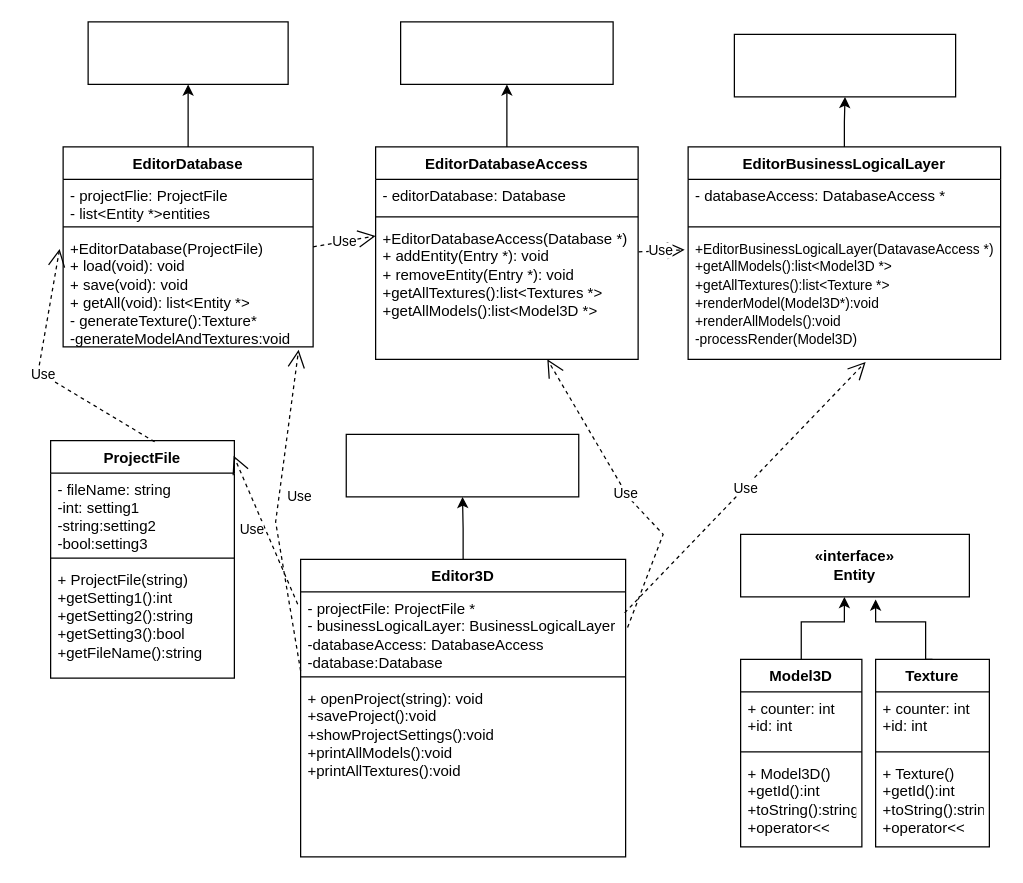
The diagram is 1023 pixels wide and 883 high, and some of its shapes have lost their labels. Each missing label, with the box of its shape:
«interface» BusinessLogicalLayer: (733, 33, 956, 97)
«interface» Database: (87, 21, 288, 84)
«interface» DatabaseAccess: (399, 21, 613, 84)
«interface» UILayer: (345, 433, 579, 497)
